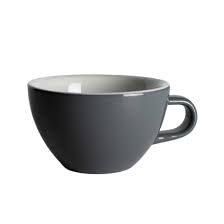cup: (24, 69, 201, 180)
